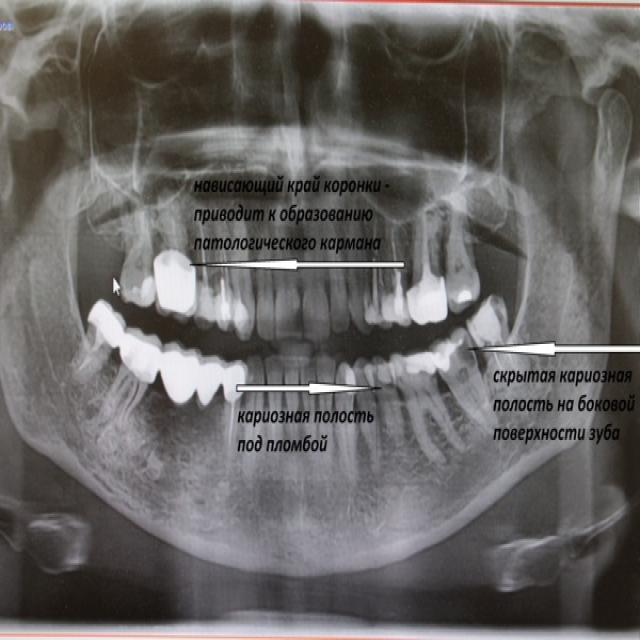Caries: (437, 323, 478, 448)
